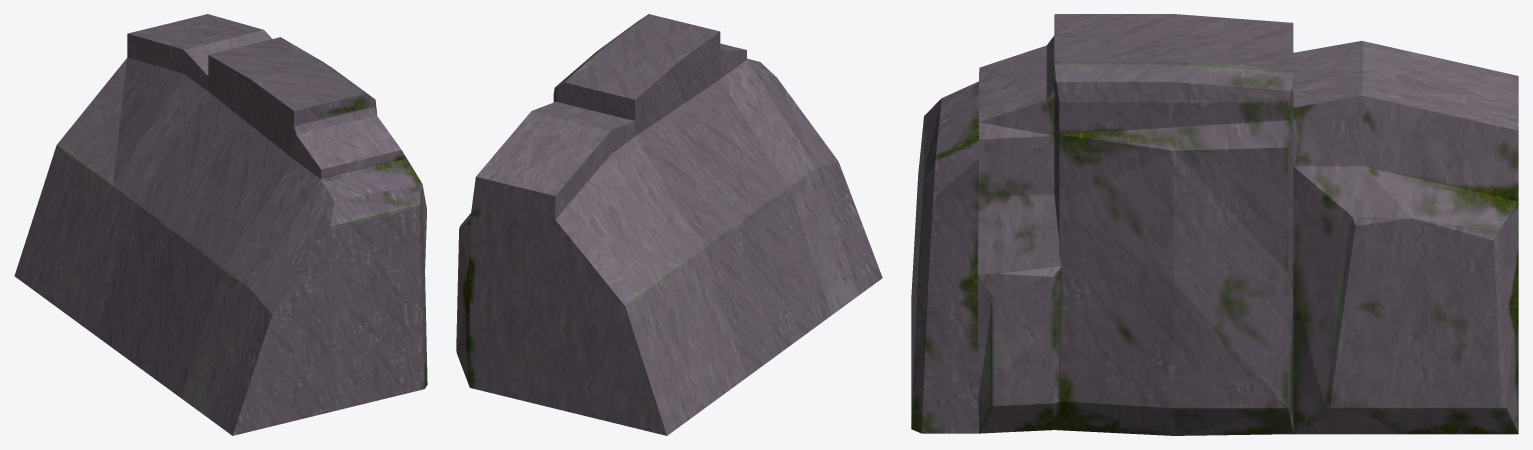
The model's file is mod_rockwall_l_01.fbx.
3 renders of one model, left to right at view 1: azimuth 30°, elevation 25°; view 2: azimuth 150°, elevation 25°; view 3: azimuth 270°, elevation 25°, orthographic. The views are drawn at different scales.
Visible parts, largest first — view 1: rock_left_wall_mod; view 2: rock_left_wall_mod; view 3: rock_left_wall_mod.
Part boxes in pixels (x1=…): rock_left_wall_mod: x1=14, y1=14, x2=427, y2=435; rock_left_wall_mod: x1=456, y1=14, x2=882, y2=435; rock_left_wall_mod: x1=911, y1=14, x2=1518, y2=435.
Bounding box in the file's own units: 545 × 616 × 939.
1 material, 1 textured.
